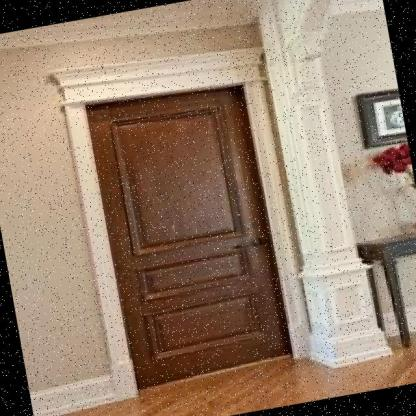Table: (355, 223, 416, 353)
